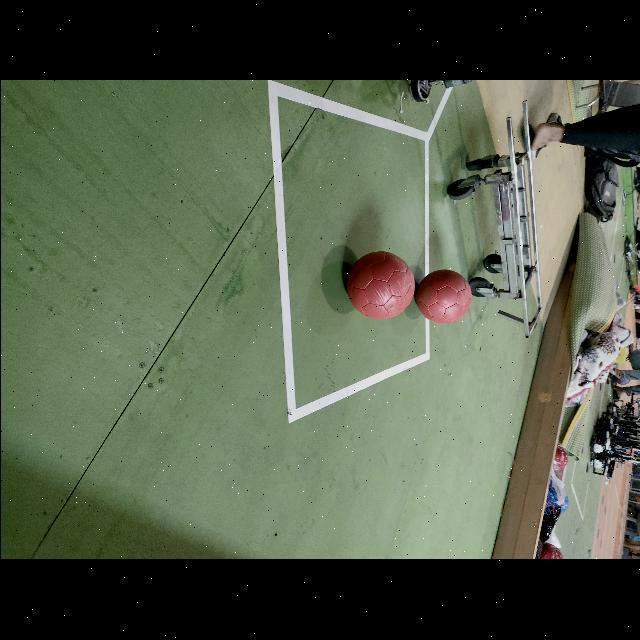R: (346, 252, 414, 320), (416, 270, 470, 324)
